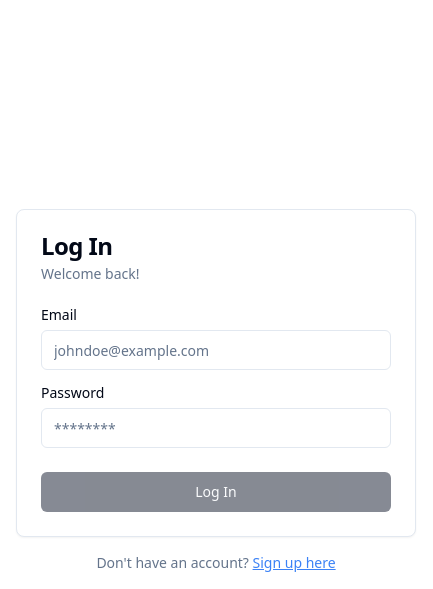
Login Page › should show a generic error message for server errors
Type "test@example.com" into the field named "email" at (216, 350), box [41,330,391,370]
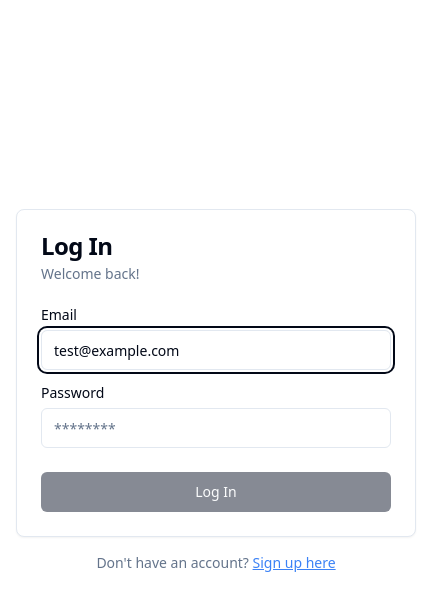
Type "password123" into the password field named "password" at (216, 428), box [41,408,391,448]
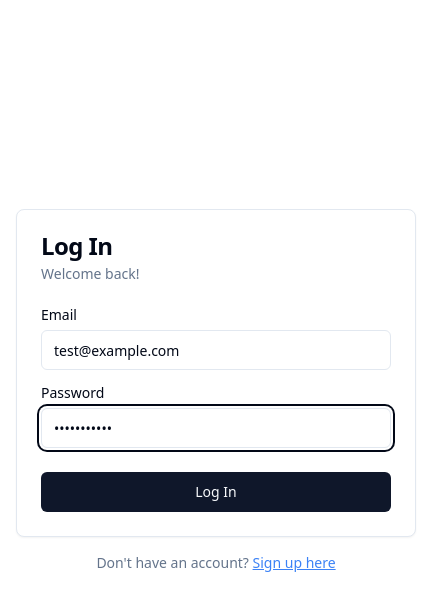
Click the submit button at (216, 492), box [41,472,391,512]
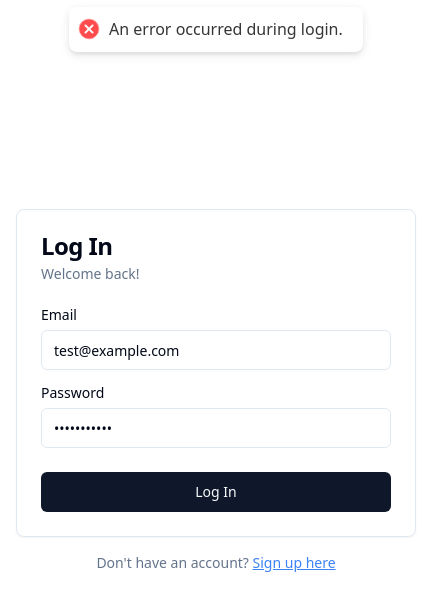
expect the text "An error occurred during login." is shown: met, box [109,19,343,40]
